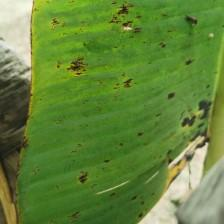pestalotiopsis: (14, 0, 224, 224)
